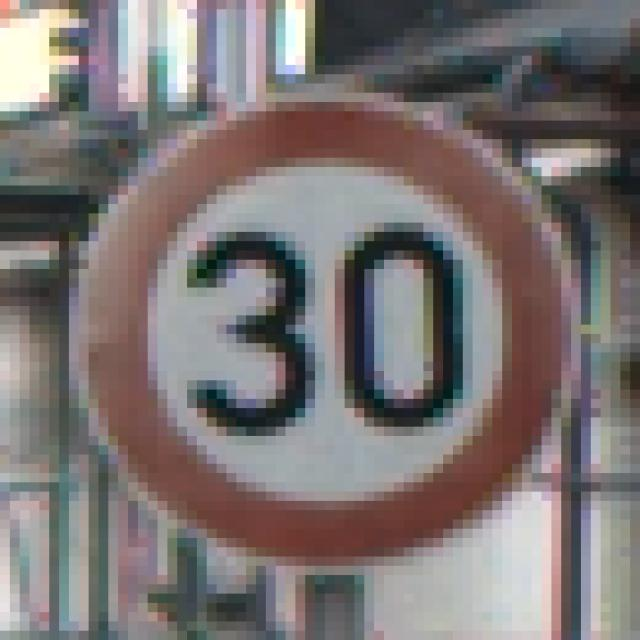Speed Limit -30-: (44, 61, 576, 570)
